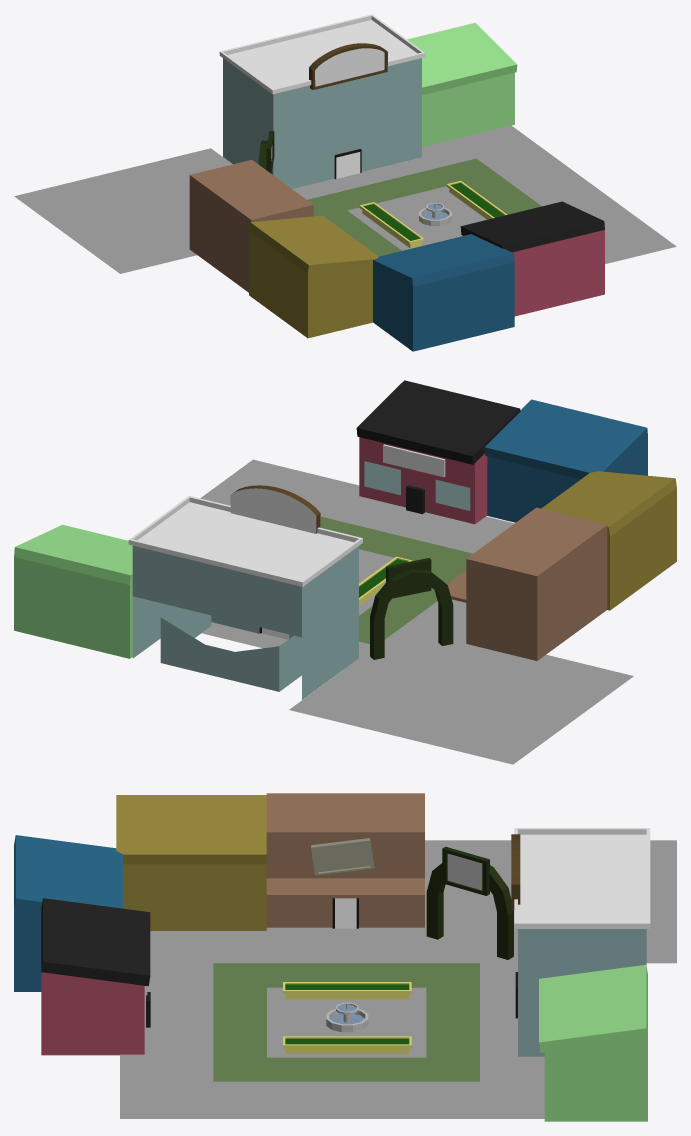
File: hub.fbx
3 views of the same model, one above another, from view 1: azimuth 30°, elevation 25°; view 2: azimuth 150°, elevation 25°; view 3: azimuth 270°, elevation 25° (orthographic). The views are drawn at different scales.
Parts seen in each view (by area): view 1: Plane, Cube.004, Cube.008, Cube.005, Cube.007, Cube.006, Cube.002, Cube.001, Cylinder; view 2: Plane, Cube.004, Cube.002, Cube.007, Cube.006, Cube.008, Cube.005, Cylinder, Cube.001; view 3: Plane, Cube.004, Cube.002, Cube.005, Cube.007, Cube.006, Cube.008, Cube.001, Cylinder.
Boxes of the visible parts, left/top/right/bottom form: Plane: left=14, top=125, right=676, bottom=273; Cube.004: left=219, top=14, right=425, bottom=188; Cube.008: left=373, top=234, right=514, bottom=351; Cube.005: left=249, top=215, right=378, bottom=338; Cube.007: left=460, top=201, right=604, bottom=316; Cube.006: left=407, top=22, right=517, bottom=146; Cube.002: left=189, top=160, right=315, bottom=292; Cube.001: left=359, top=180, right=507, bottom=248; Cylinder: left=258, top=131, right=274, bottom=173; Plane: left=200, top=459, right=633, bottom=764; Cube.004: left=128, top=485, right=362, bottom=699; Cube.002: left=435, top=507, right=607, bottom=660; Cube.007: left=356, top=380, right=520, bottom=524; Cube.006: left=14, top=524, right=132, bottom=658; Cube.008: left=484, top=399, right=647, bottom=522; Cube.005: left=541, top=471, right=676, bottom=610; Cylinder: left=370, top=558, right=453, bottom=659; Cube.001: left=359, top=556, right=412, bottom=606; Plane: left=120, top=840, right=676, bottom=1118; Cube.004: left=511, top=828, right=650, bottom=1056; Cube.002: left=266, top=793, right=424, bottom=928; Cube.005: left=116, top=795, right=266, bottom=930; Cube.007: left=41, top=898, right=150, bottom=1055; Cube.006: left=539, top=964, right=647, bottom=1121; Cube.008: left=14, top=835, right=122, bottom=991; Cube.001: left=283, top=982, right=411, bottom=1053; Cylinder: left=426, top=846, right=513, bottom=959.
Bounding box in the file's own units: 6194 × 1716 × 6176.
